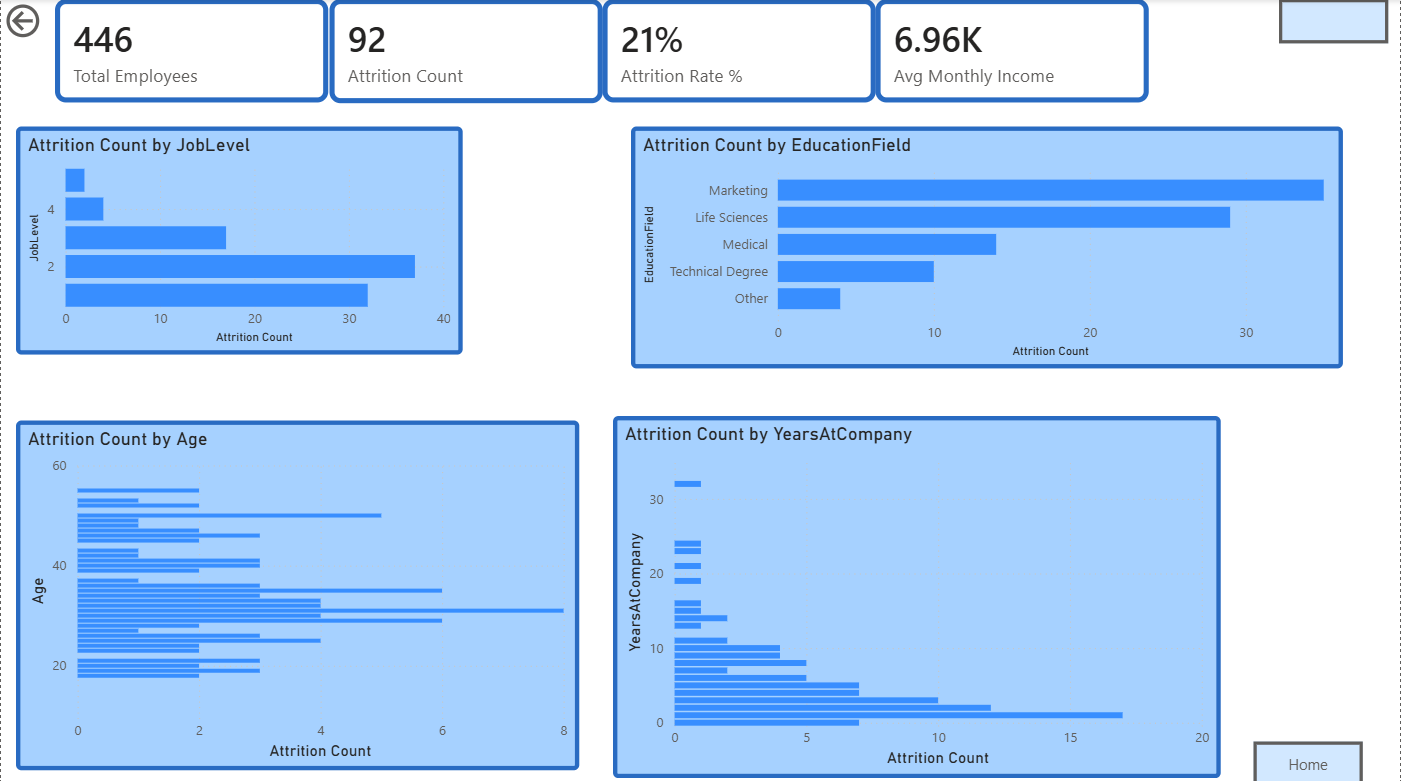

The page's visual inventory and layout, read from the dashboard file:
{"tool":"powerbi","page":{"name":"Compensation & Seniority","canvas":[1280,720],"ordinal":3},"visuals":[{"type":"cardVisual","fields":{"Data":["HR Analytics Data.Total Employees"]},"box":[50,0,250,94.4],"z":0},{"type":"cardVisual","fields":{"Data":["HR Analytics Data.Attrition Rate %"]},"box":[550,0,250,94.4],"z":4000},{"type":"cardVisual","fields":{"Data":["HR Analytics Data.Attrition Count"]},"box":[300,0,250,95],"z":4500},{"type":"cardVisual","fields":{"Data":["HR Analytics Data.Avg Monthly Income"]},"box":[800,0,250,94.4],"z":5000},{"type":"clusteredBarChart","fields":{"Y":["HR Analytics Data.Attrition Count"],"Category":["HR Analytics Data.JobLevel"]},"box":[14.3,117.1,408.6,208.6],"z":7000},{"type":"clusteredBarChart","fields":{"Y":["HR Analytics Data.Attrition Count"],"Category":["HR Analytics Data.Age"]},"box":[14.1,385.9,515.6,320.3],"z":8000},{"type":"clusteredBarChart","fields":{"Y":["HR Analytics Data.Attrition Count"],"Category":["HR Analytics Data.EducationField"]},"box":[575.7,117.1,651.4,221.4],"z":9000},{"type":"clusteredBarChart","fields":{"Y":["HR Analytics Data.Attrition Count"],"Category":["HR Analytics Data.YearsAtCompany"]},"box":[559.4,381.2,556.2,331.2],"z":10000},{"type":"actionButton","box":[1145.3,679.7,100,40.6],"z":11000},{"type":"actionButton","box":[1168.8,0,100,40.6],"z":11500},{"type":"actionButton","box":[0,0,100,40],"z":12000}]}

Visuals, with their boxes in screenshot pixels (x1, y1, x2, y2), scaled from the page's 1280x720 canvas onto the 1401x781 screenshot:
cardVisual - HR Analytics Data.Total Employees: pyautogui.locateOnScreen(55, 0, 328, 102)
cardVisual - HR Analytics Data.Attrition Rate %: pyautogui.locateOnScreen(602, 0, 876, 102)
cardVisual - HR Analytics Data.Attrition Count: pyautogui.locateOnScreen(328, 0, 602, 103)
cardVisual - HR Analytics Data.Avg Monthly Income: pyautogui.locateOnScreen(876, 0, 1149, 102)
clusteredBarChart - HR Analytics Data.Attrition Count x HR Analytics Data.JobLevel: pyautogui.locateOnScreen(16, 127, 463, 353)
clusteredBarChart - HR Analytics Data.Attrition Count x HR Analytics Data.Age: pyautogui.locateOnScreen(15, 419, 580, 766)
clusteredBarChart - HR Analytics Data.Attrition Count x HR Analytics Data.EducationField: pyautogui.locateOnScreen(630, 127, 1343, 367)
clusteredBarChart - HR Analytics Data.Attrition Count x HR Analytics Data.YearsAtCompany: pyautogui.locateOnScreen(612, 413, 1221, 773)
actionButton: pyautogui.locateOnScreen(1254, 737, 1363, 780)
actionButton: pyautogui.locateOnScreen(1279, 0, 1389, 44)
actionButton: pyautogui.locateOnScreen(0, 0, 109, 43)
